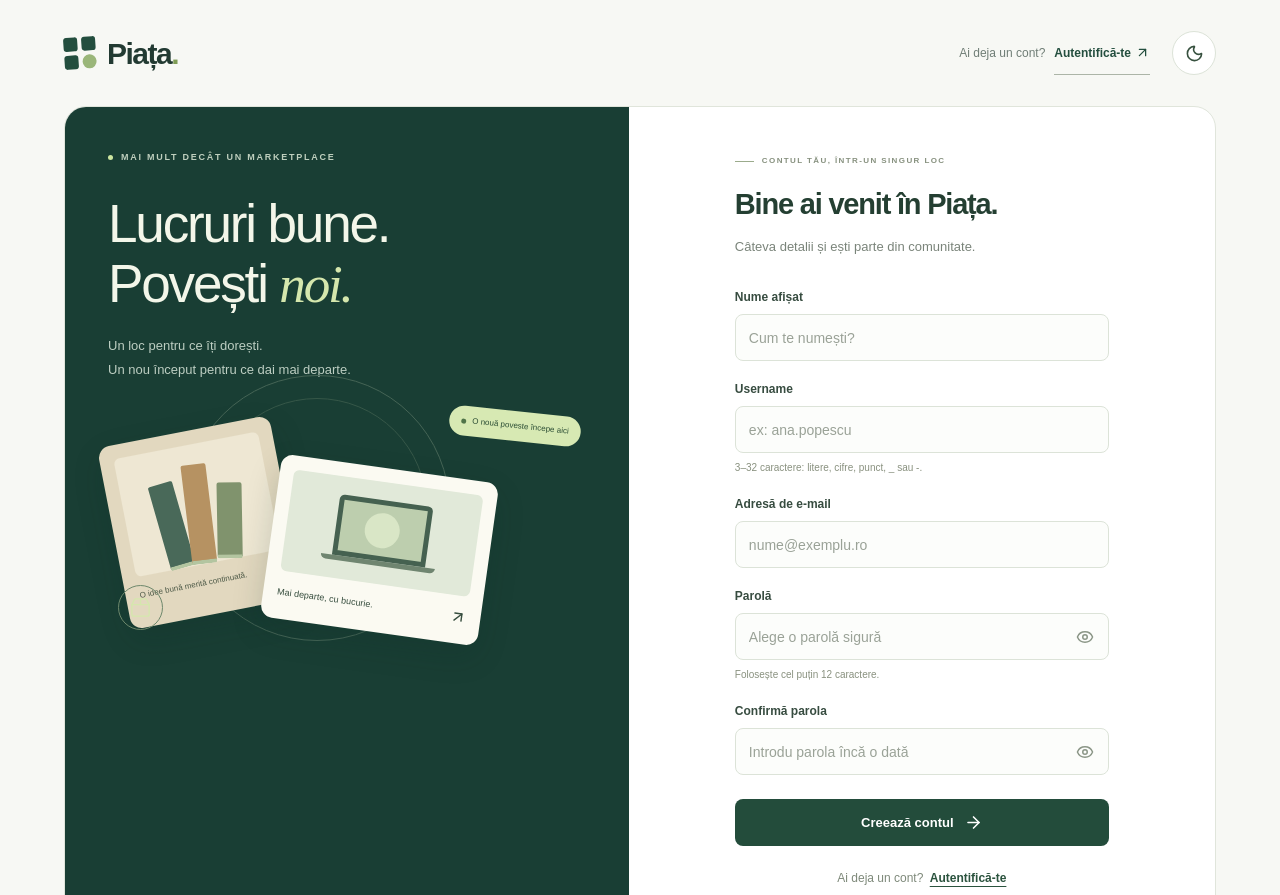
Test: authentication screens › keeps mismatched passwords out of the API and focuses the invalid field
Step 1. Type "Ana" into the field labelled "Nume afișat" → (922, 338), box [735,314,1109,361]
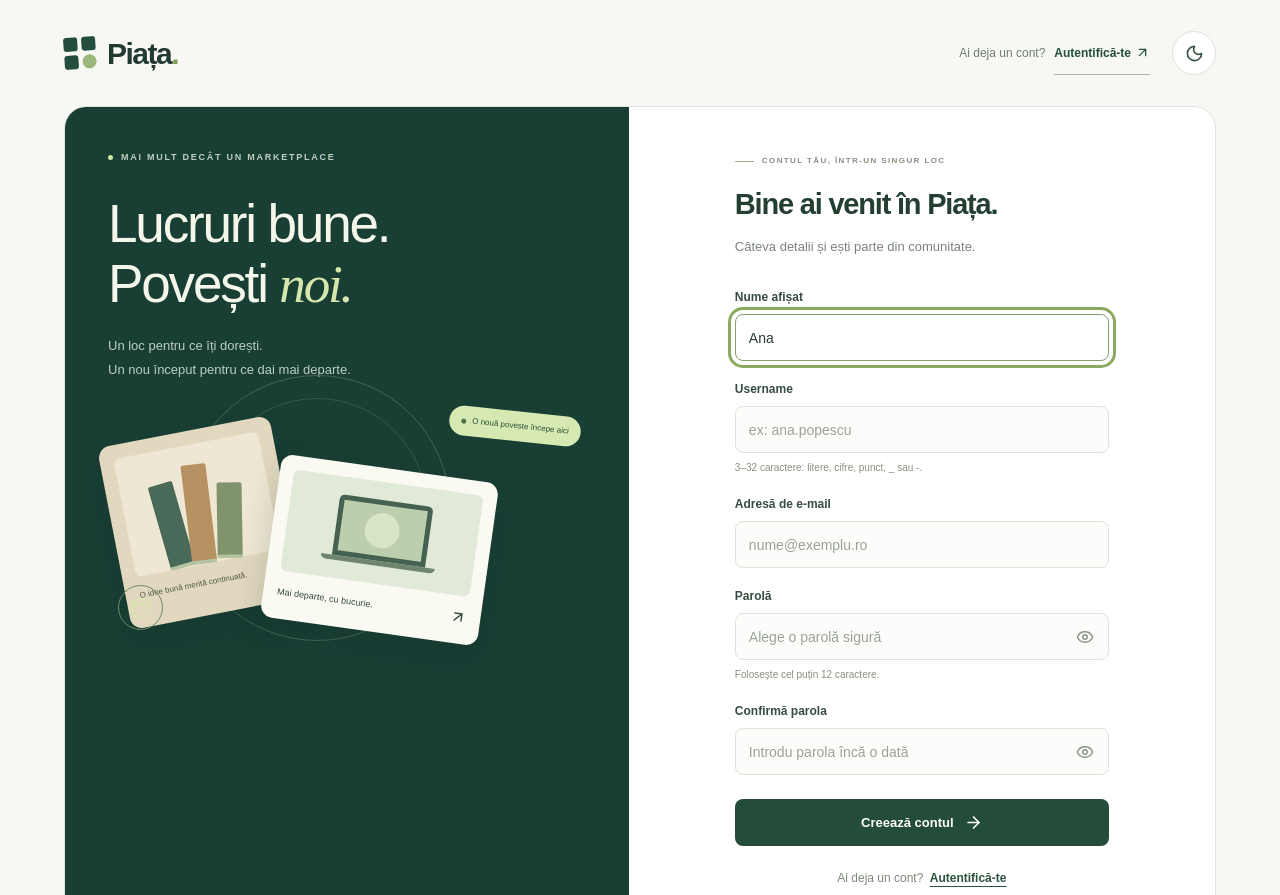
Step 2. Type "ana.demo" into the field labelled "Username" → (922, 430), box [735,406,1109,453]
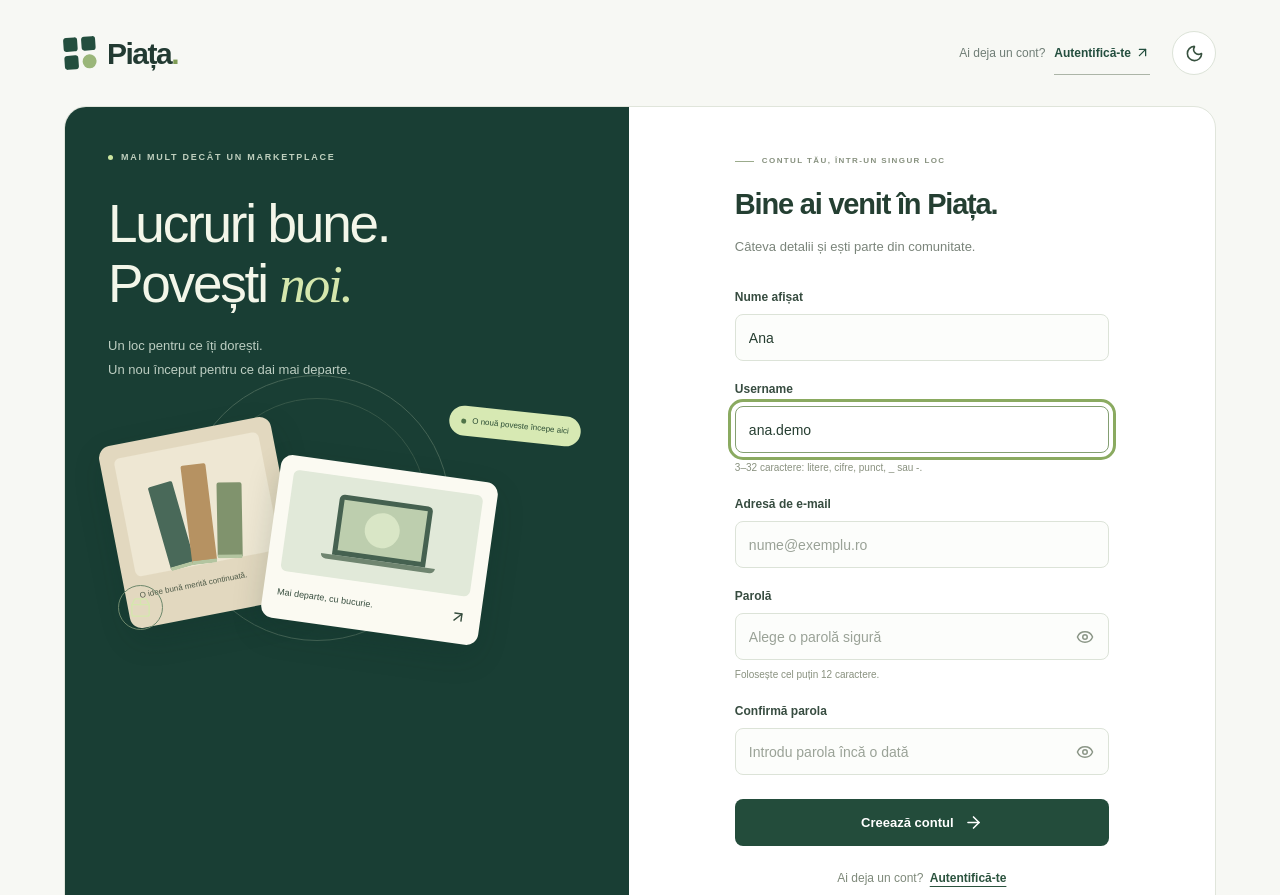
Step 3. Type "seller@example.test" into the field labelled "Adresă de e-mail" → (922, 545), box [735,521,1109,568]
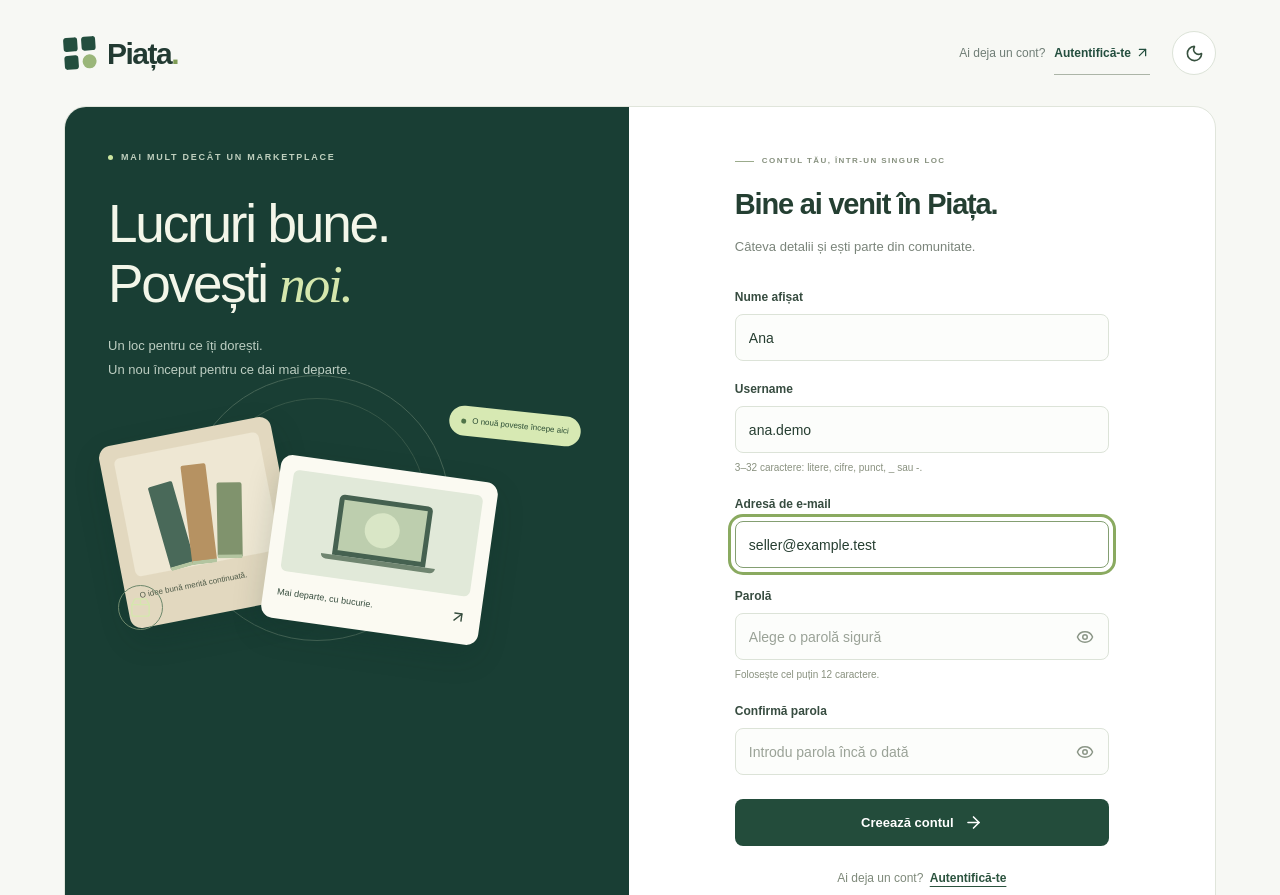
Step 4. Type "Test-password-2026!" into the password field labelled "Parolă" → (922, 637), box [735,613,1109,660]
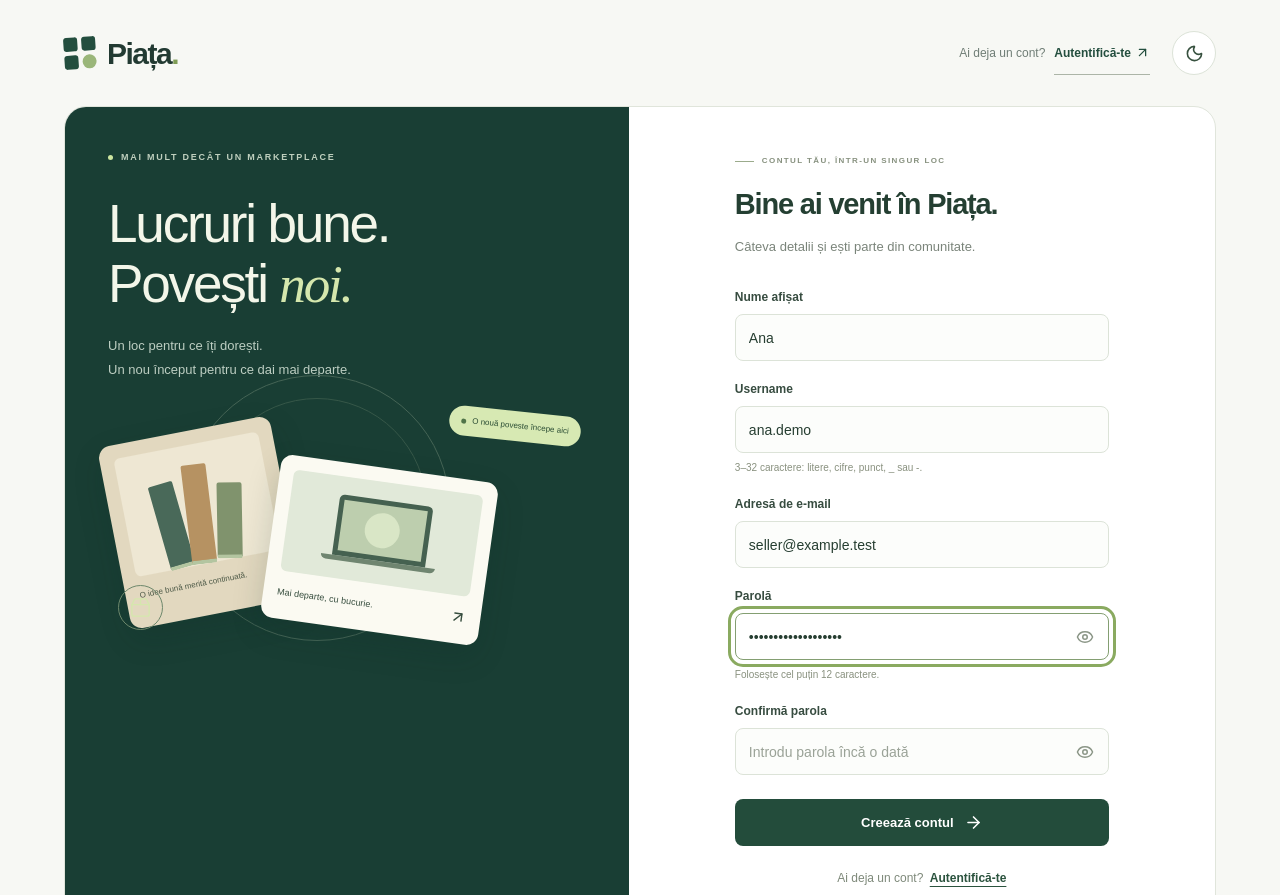
Step 5. Type "Different-password!" into the password field labelled "Confirmă parola" → (922, 752), box [735,728,1109,775]
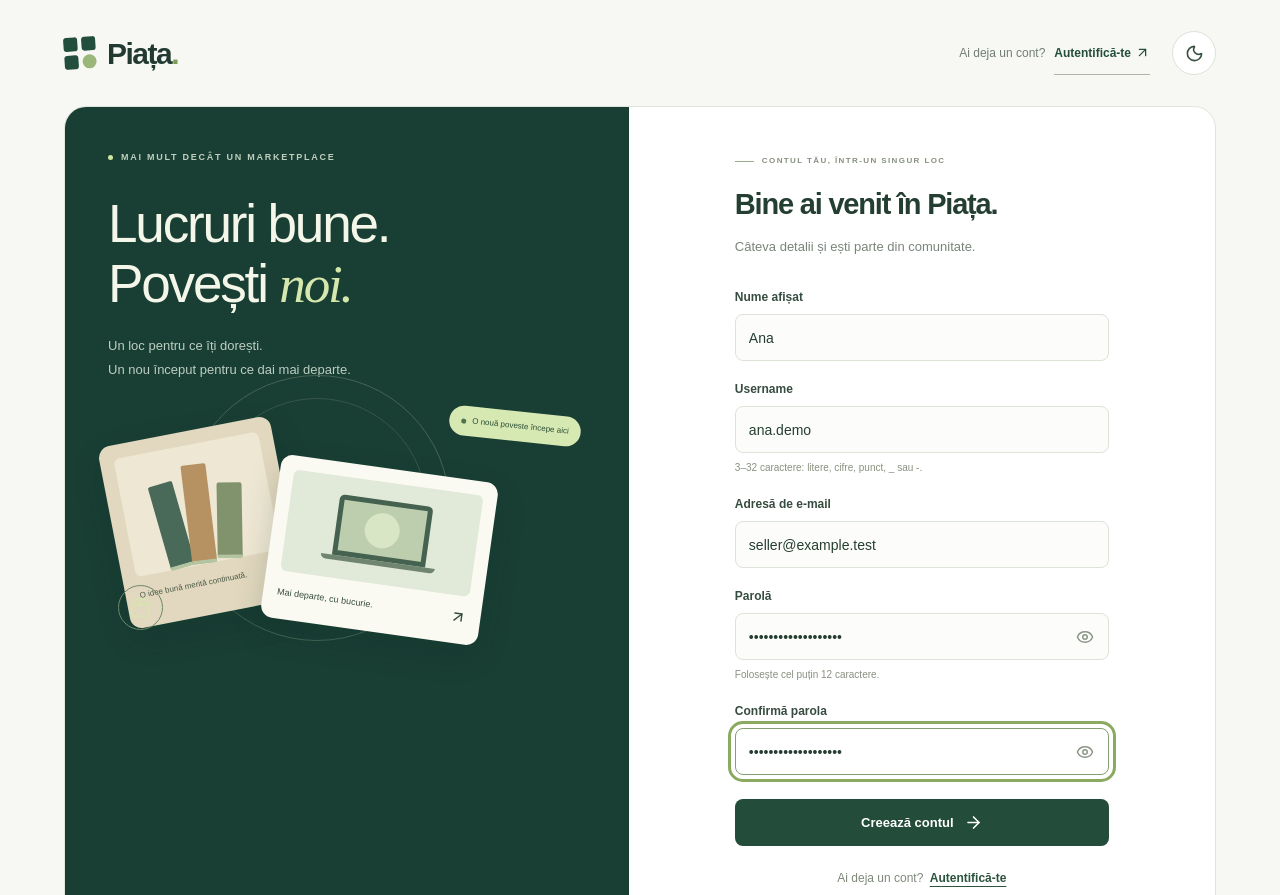
Step 6. Click the button "Creează contul" → click(922, 823), box [735,799,1109,846]
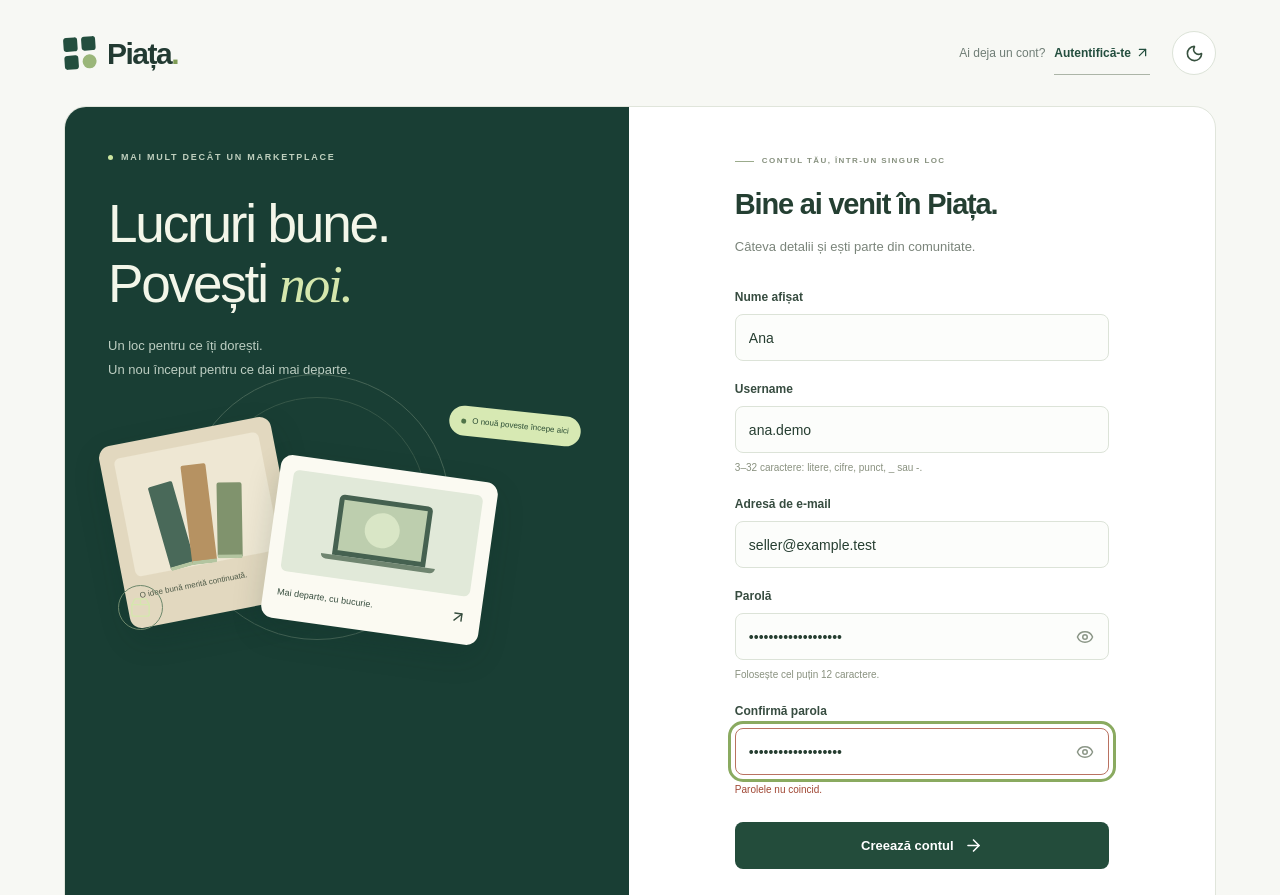
Result: the text "Parolele nu coincid." is shown at [735,784,822,795]
